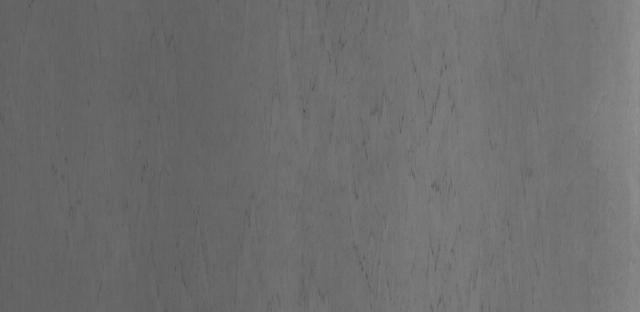silk_spot: (310, 48, 483, 185)
